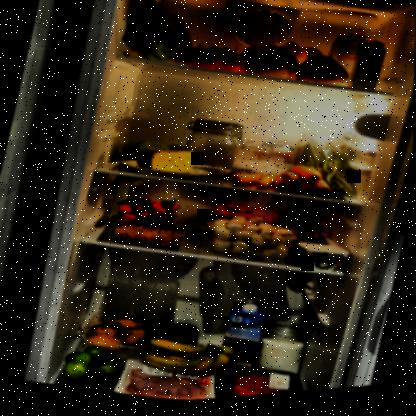apple: (120, 135, 194, 178)
banana: (142, 325, 235, 388)
beef: (226, 367, 302, 400)
blueberries: (151, 316, 204, 354)
butter: (211, 199, 283, 239)
carrot: (274, 162, 338, 209), (229, 168, 279, 199)
cheese: (134, 140, 201, 184)
corn: (285, 226, 325, 261)
green_beans: (280, 130, 367, 210)
heavy_cream: (348, 43, 390, 101)
lime: (60, 340, 129, 393)
milk: (216, 299, 273, 383)
mushrooms: (202, 206, 303, 273)
onion: (272, 40, 325, 76)
potato: (81, 303, 162, 365)
shrimp: (115, 223, 184, 256)
spinach: (111, 0, 208, 78)
strawberries: (116, 191, 177, 233)
sweet_potato: (232, 38, 354, 104)
tomato: (180, 40, 252, 82)
